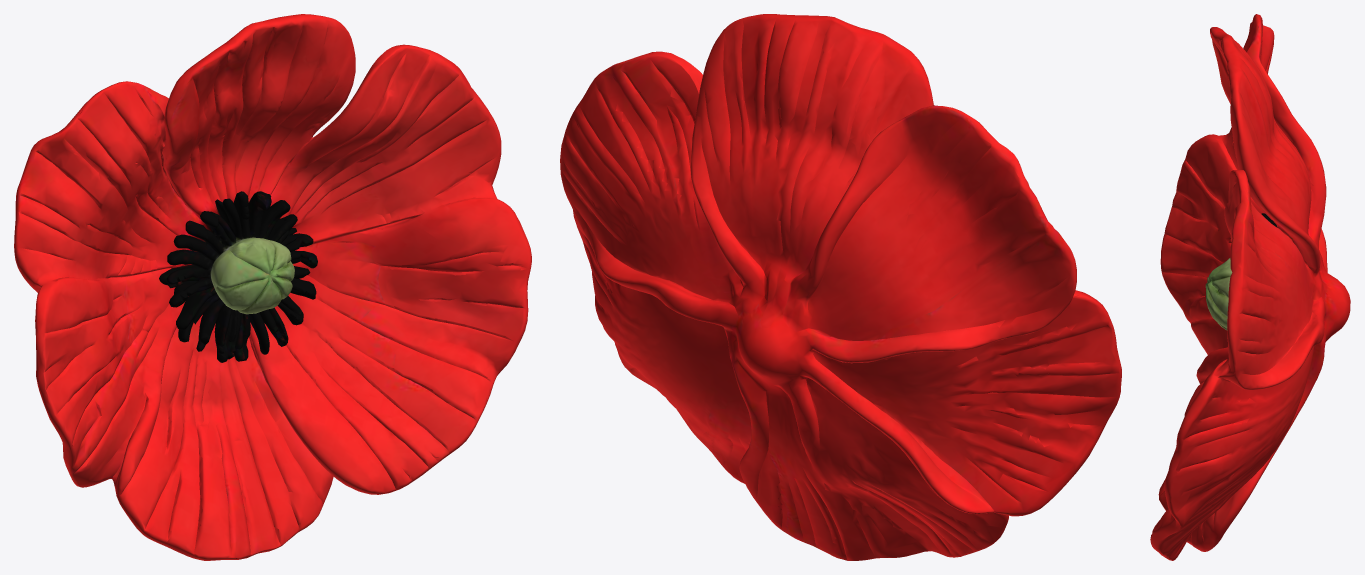
File: red_poppy_bloom.glb
3 renders of one model, left to right at view 1: azimuth 30°, elevation 25°; view 2: azimuth 150°, elevation 25°; view 3: azimuth 270°, elevation 25°, orthographic. The views are drawn at different scales.
Visible parts, largest first — view 1: model; view 2: model; view 3: model.
Boxes of the visible parts, bbox=[...] form: model: bbox=[14, 14, 531, 560]; model: bbox=[560, 14, 1121, 560]; model: bbox=[1150, 14, 1350, 560].
Size of the model in its own units: 1.9 by 1.88 by 0.6735.
Materials: 1 (1 with a texture image).
